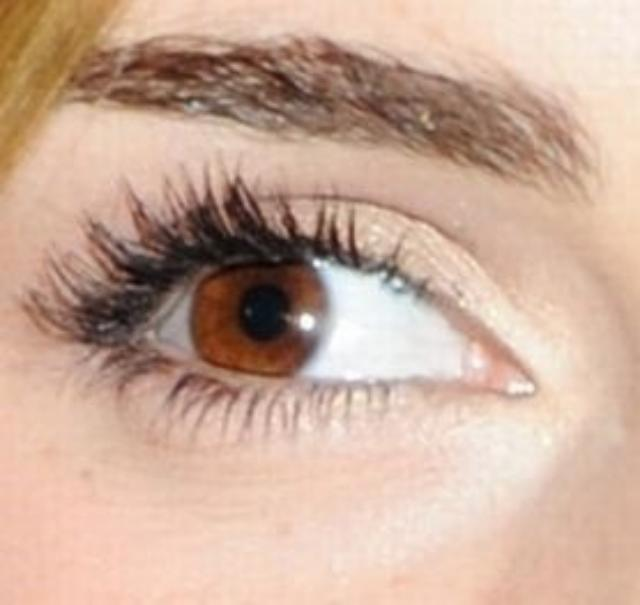eye: (191, 245, 329, 379)
